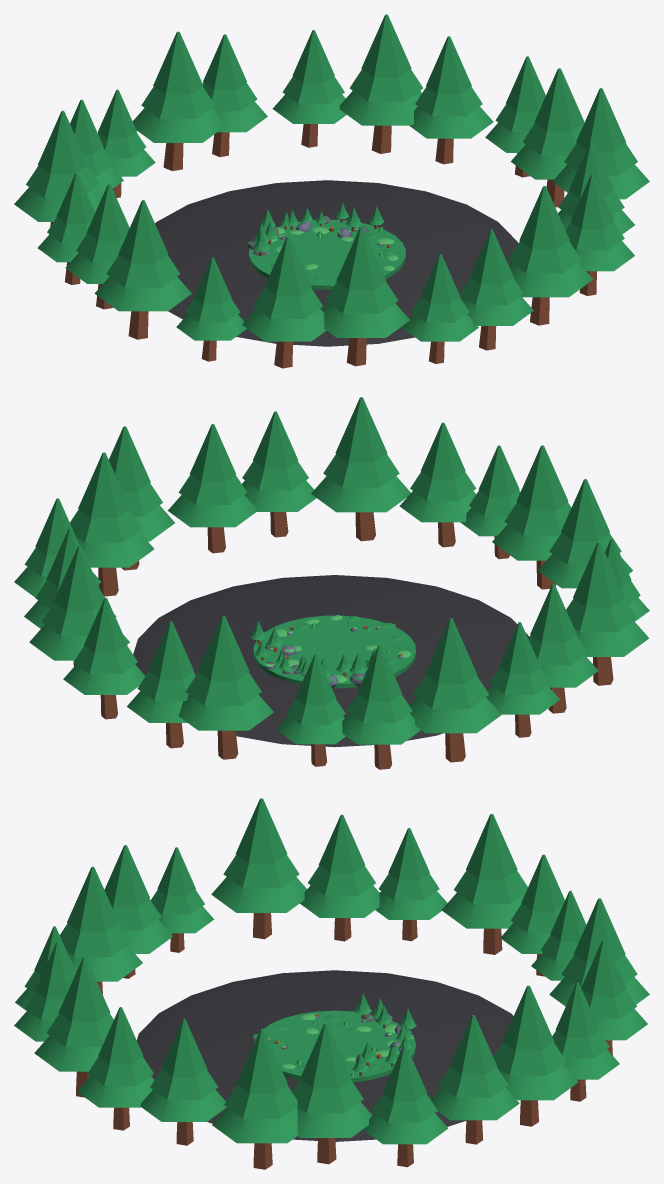
File: grove_bear.glb
3 renders of one model, top to bottom at view 1: azimuth 30°, elevation 25°; view 2: azimuth 150°, elevation 25°; view 3: azimuth 270°, elevation 25°, orthographic. The views are drawn at different scales.
Parts seen in each view (by area): view 1: GroveBearGround; view 2: GroveBearGround; view 3: GroveBearGround.
Boxes of the visible parts, x1,y1,x2,y2 form: GroveBearGround: (14, 14, 649, 368); GroveBearGround: (14, 397, 649, 769); GroveBearGround: (14, 798, 649, 1169).
Bounding box in the file's own units: 46.71 × 11.96 × 46.96.
1 material, 1 textured.
